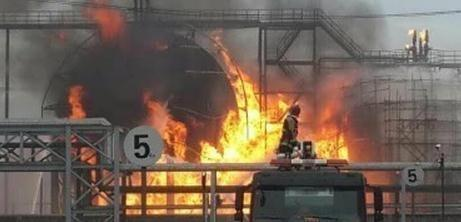fire: (34, 2, 387, 219)
